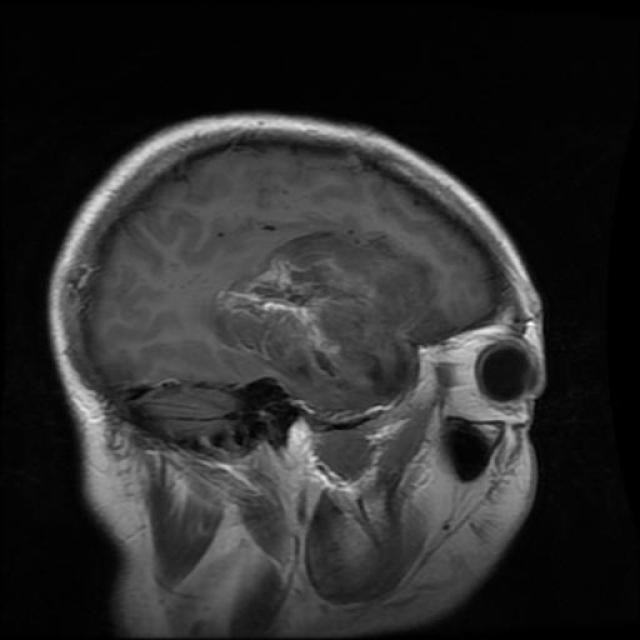glioma: (232, 217, 374, 364)
